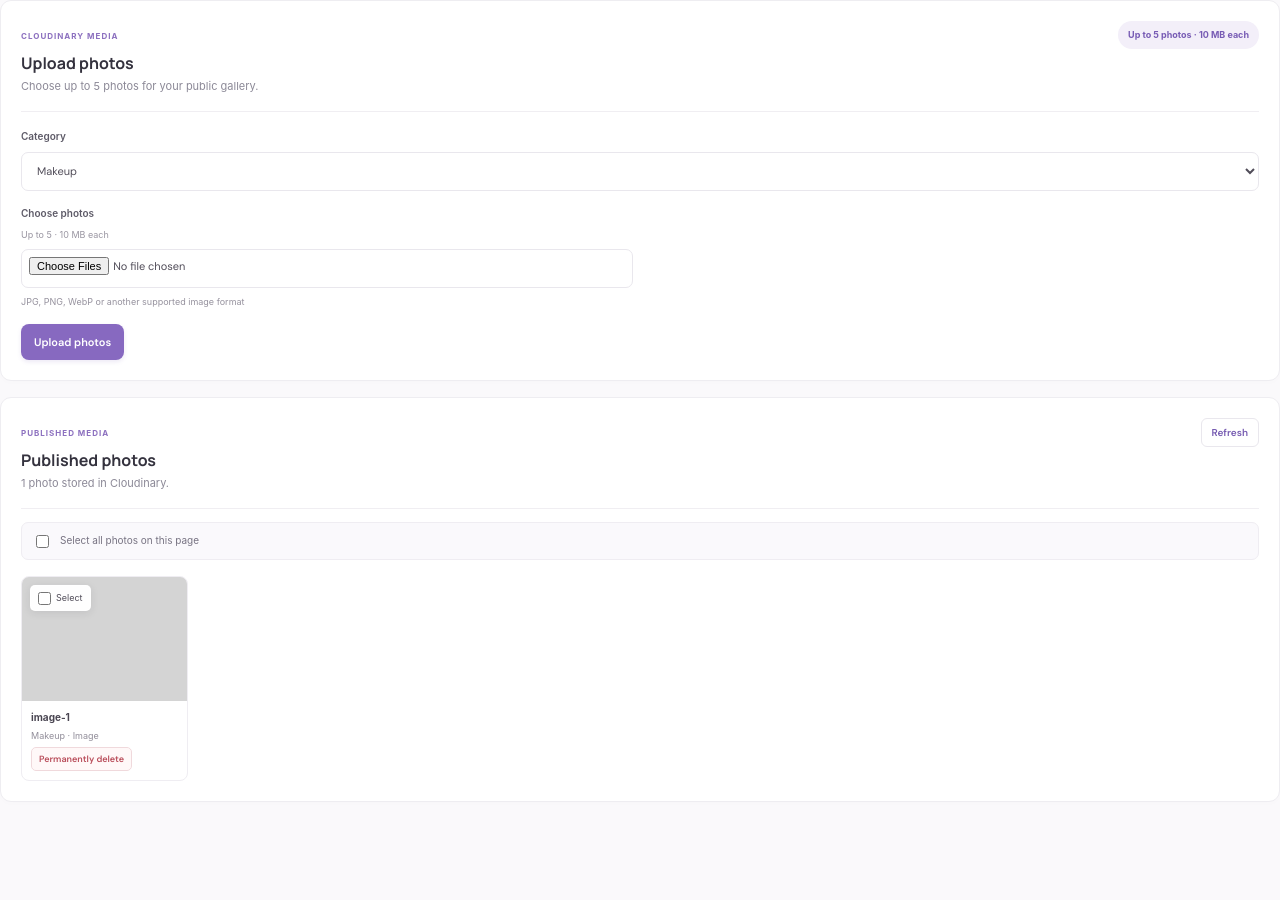
confirms gallery deletion in an in-app dialog before removing media
Click the button "Permanently delete" at (82, 759), box [31,747,132,771]
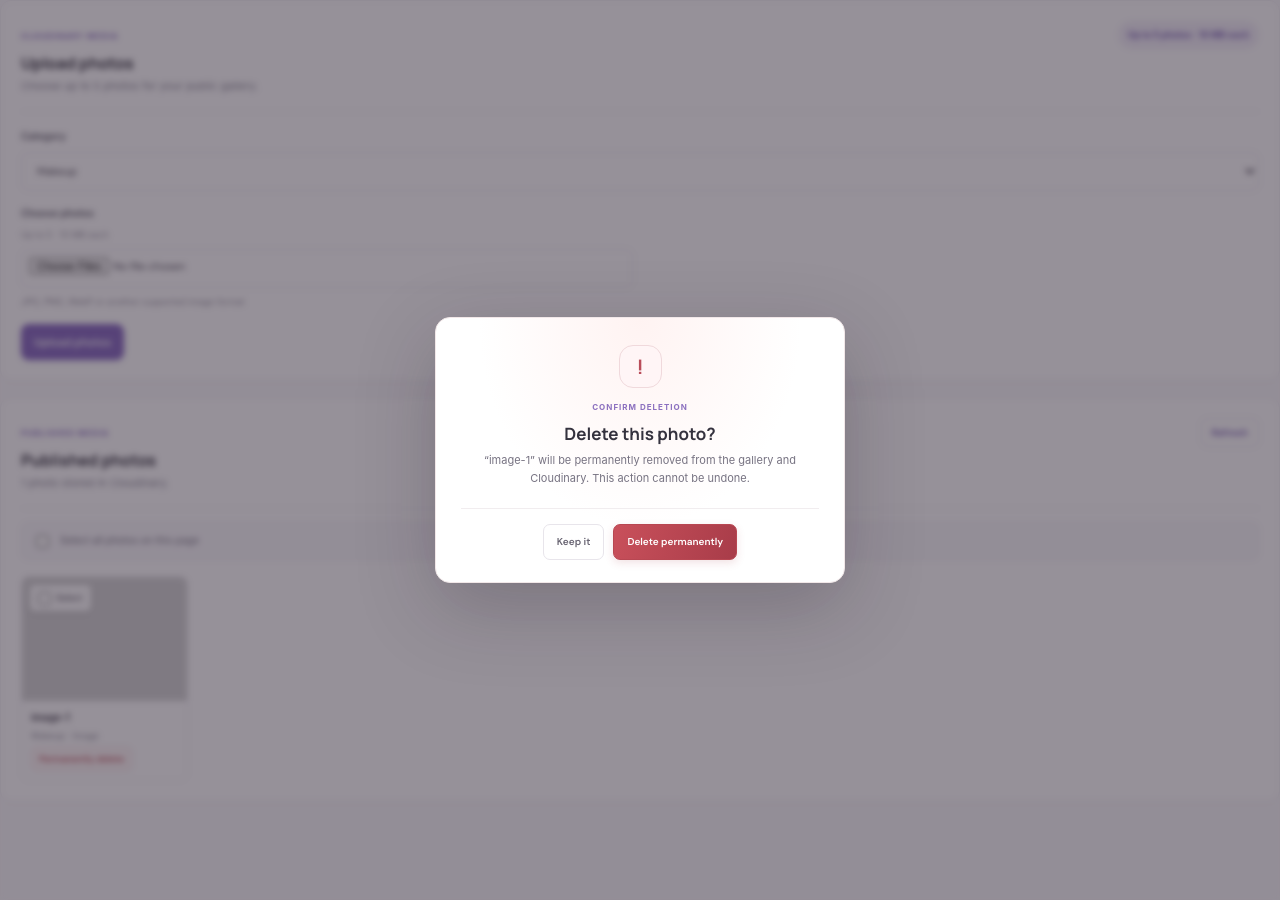
Result: the dialog "Delete this photo?" is shown at [435,317,845,583]
Click the button "Keep it" at (574, 542), box [543,524,604,560]
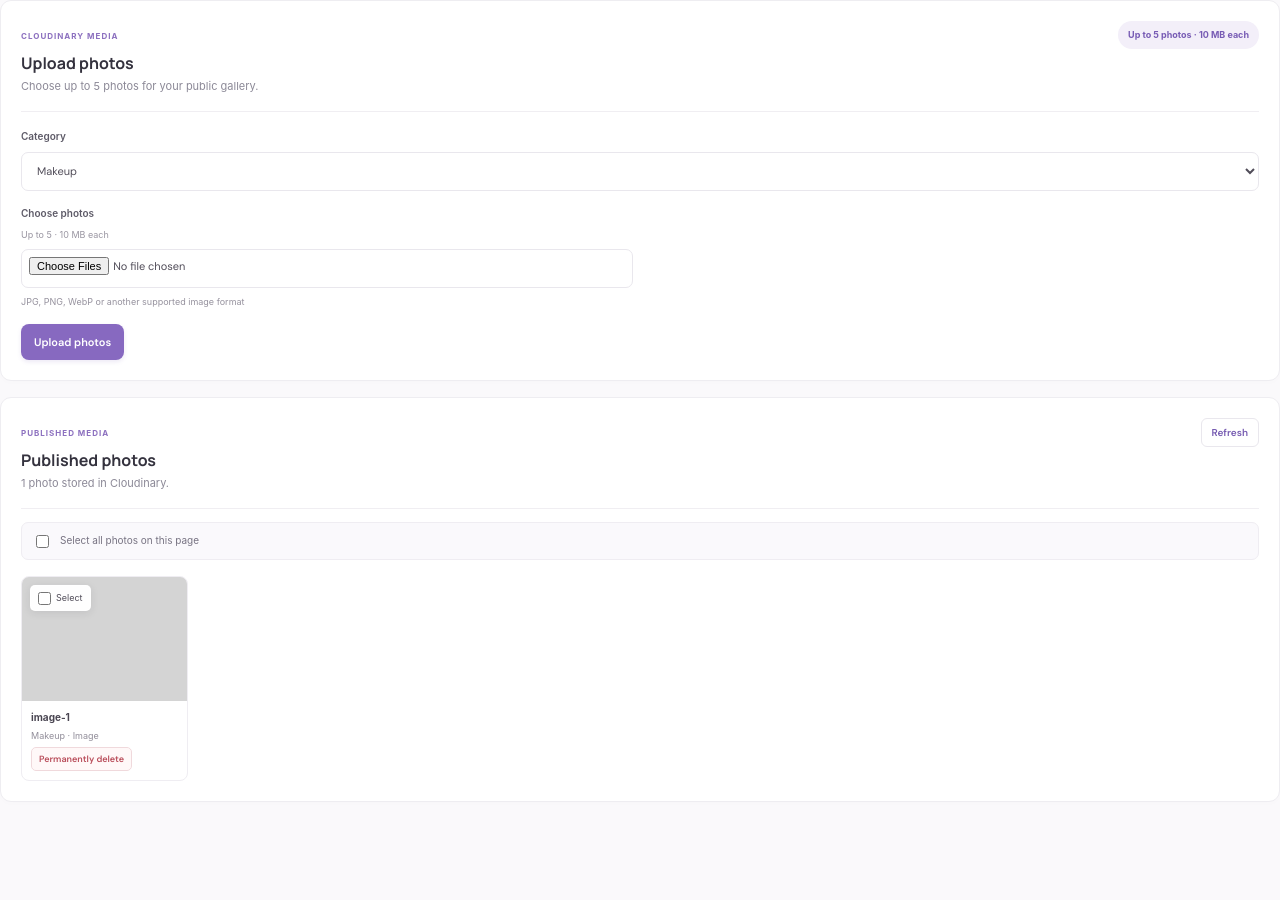
Result: the heading "Delete this photo?" is gone
Click the button "Permanently delete" at (82, 759), box [31,747,132,771]
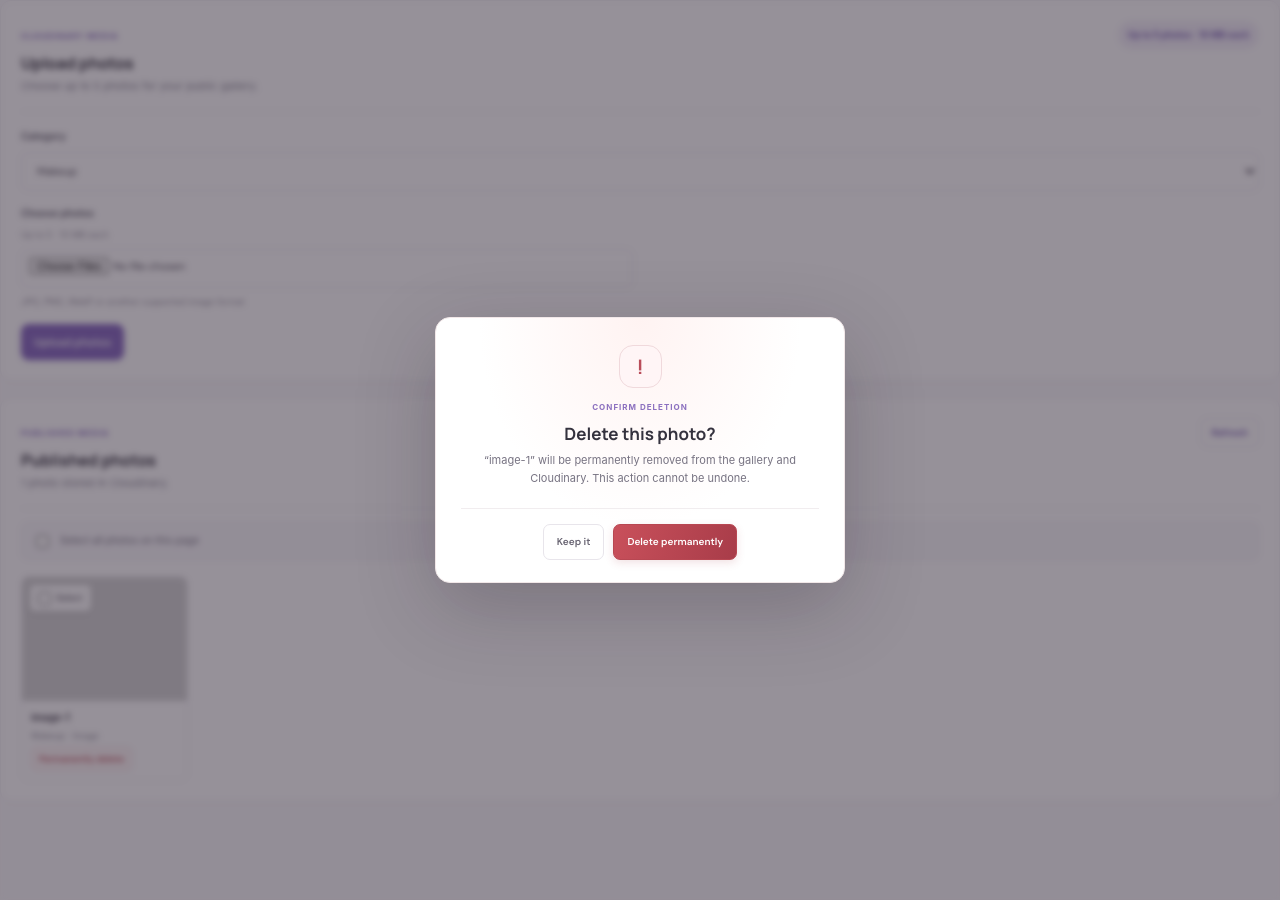
Click the button "Delete permanently" at (675, 542), box [613,524,737,560]
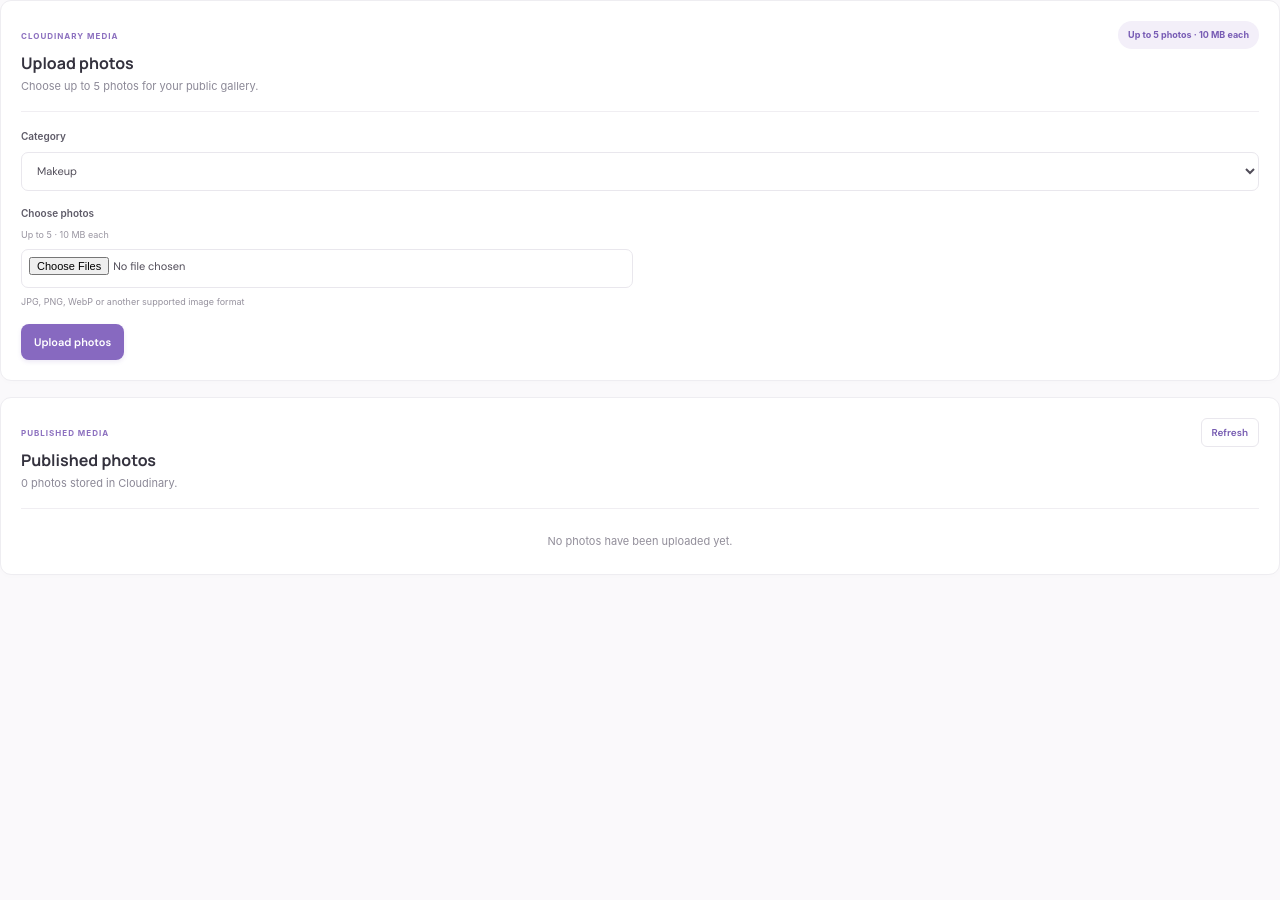
Result: the text "image-1" is gone
